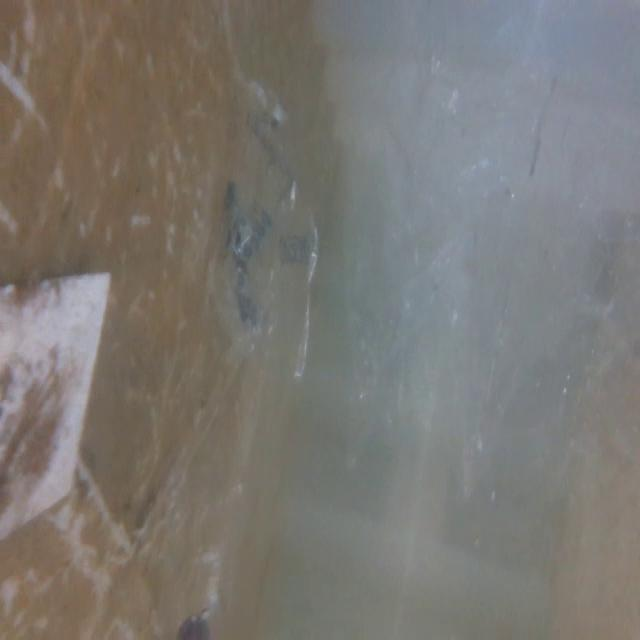metal: (0, 272, 140, 590)
plastic bags: (351, 29, 518, 476), (201, 98, 343, 413)
